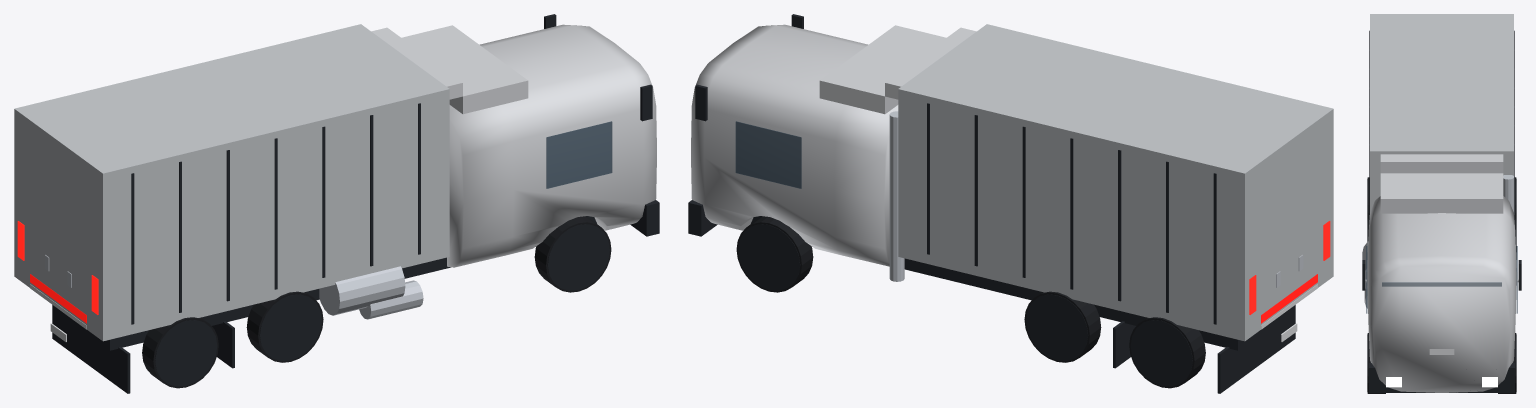
Rendered from truck_white.glb.
3 views of the same model, side by side, from view 1: azimuth 30°, elevation 25°; view 2: azimuth 150°, elevation 25°; view 3: azimuth 270°, elevation 25° (orthographic). The views are drawn at different scales.
Parts seen in each view (by area): view 1: VehicleTruck; view 2: VehicleTruck; view 3: VehicleTruck.
Boxes of the visible parts, x1,y1,x2,y2 form: VehicleTruck: [14, 14, 659, 393]; VehicleTruck: [688, 14, 1333, 393]; VehicleTruck: [1362, 14, 1521, 393].
Bounding box in the file's own units: 0.8526 × 0.34 × 0.26.
